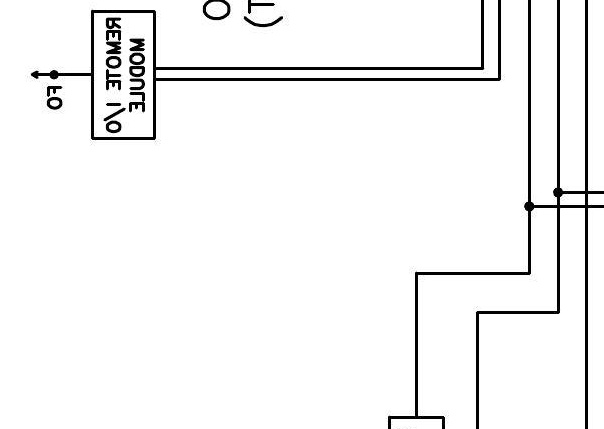remote_io_module: (91, 9, 156, 140)
